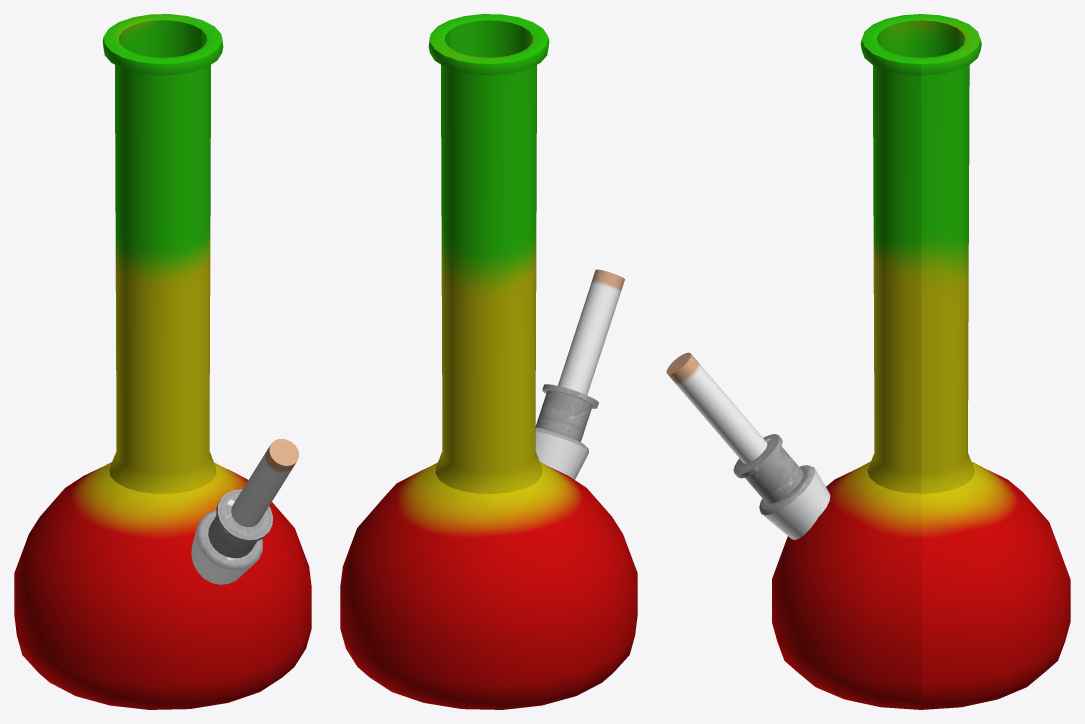
File: SM_Bong.fbx
3 renders of one model, left to right at view 1: azimuth 30°, elevation 25°; view 2: azimuth 150°, elevation 25°; view 3: azimuth 270°, elevation 25°, orthographic.
Visible parts, largest first — view 1: SM_Bong_LOD0; view 2: SM_Bong_LOD0; view 3: SM_Bong_LOD0.
Part boxes in pixels (<box>): SM_Bong_LOD0: <box>14,14,311,709</box>; SM_Bong_LOD0: <box>340,14,637,709</box>; SM_Bong_LOD0: <box>666,14,1070,709</box>.
Bounding box in the file's own units: 13.89 × 18.79 × 32.2.
Materials: 1 (1 with a texture image).
